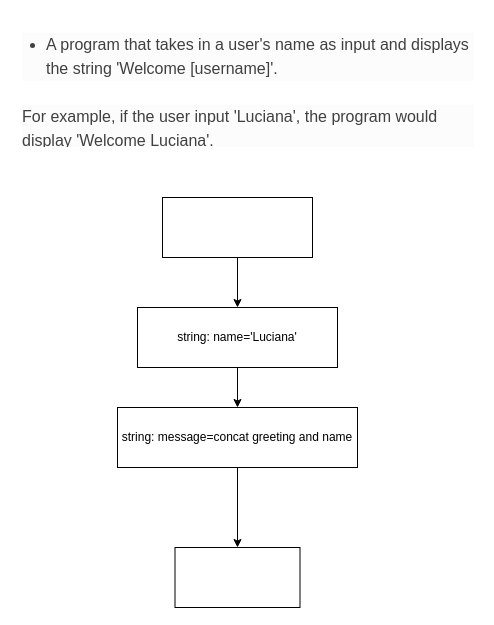
Some shapes in this 494 by 625 pixel diagram are drawn without their labels. The centre of each missing label's shape, as x and y in pixels:
render message: [237,577]
string: greeting ='Welcome': [237,227]
